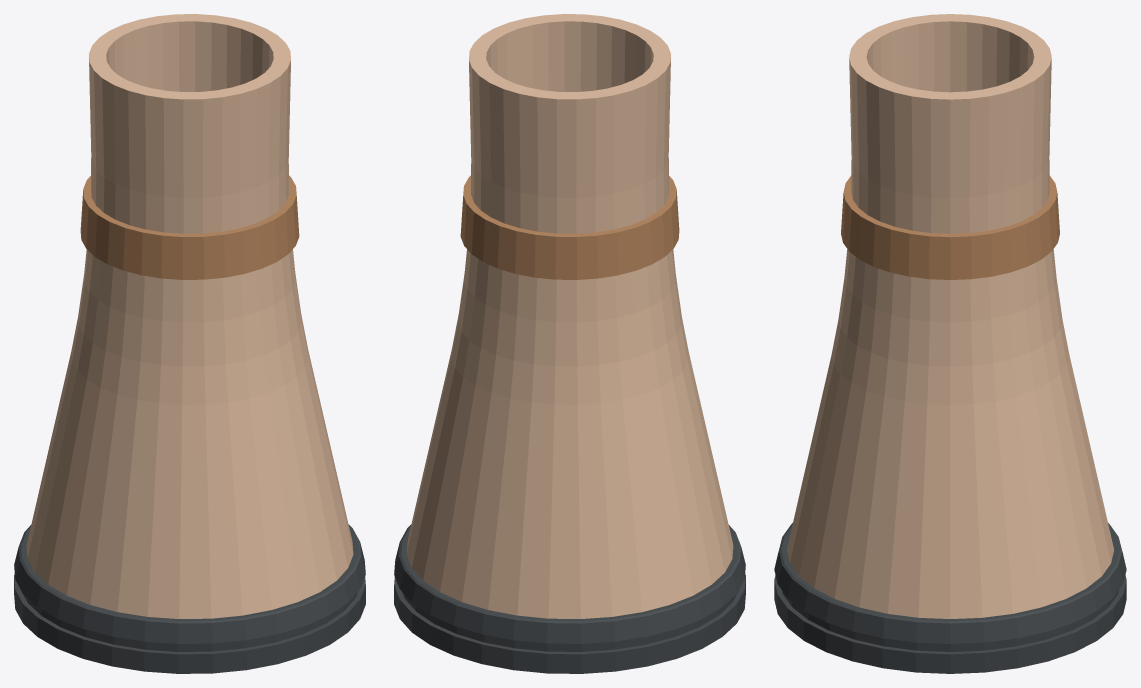
Rendered from Building_02.fbx.
3 views of the same model, side by side, from view 1: azimuth 30°, elevation 25°; view 2: azimuth 150°, elevation 25°; view 3: azimuth 270°, elevation 25° (orthographic).
Visible parts, largest first — view 1: Building_02; view 2: Building_02; view 3: Building_02.
Part boxes in pixels (x1,y1,x2,y2): Building_02: (14, 14, 365, 673); Building_02: (394, 14, 745, 673); Building_02: (774, 14, 1126, 673).
Size of the model in its own units: 1126 by 1914 by 1126.
